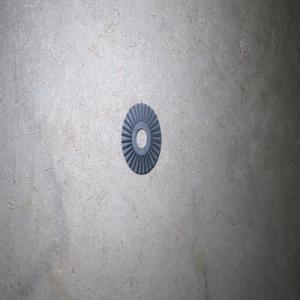Washer: (121, 102, 161, 174)
